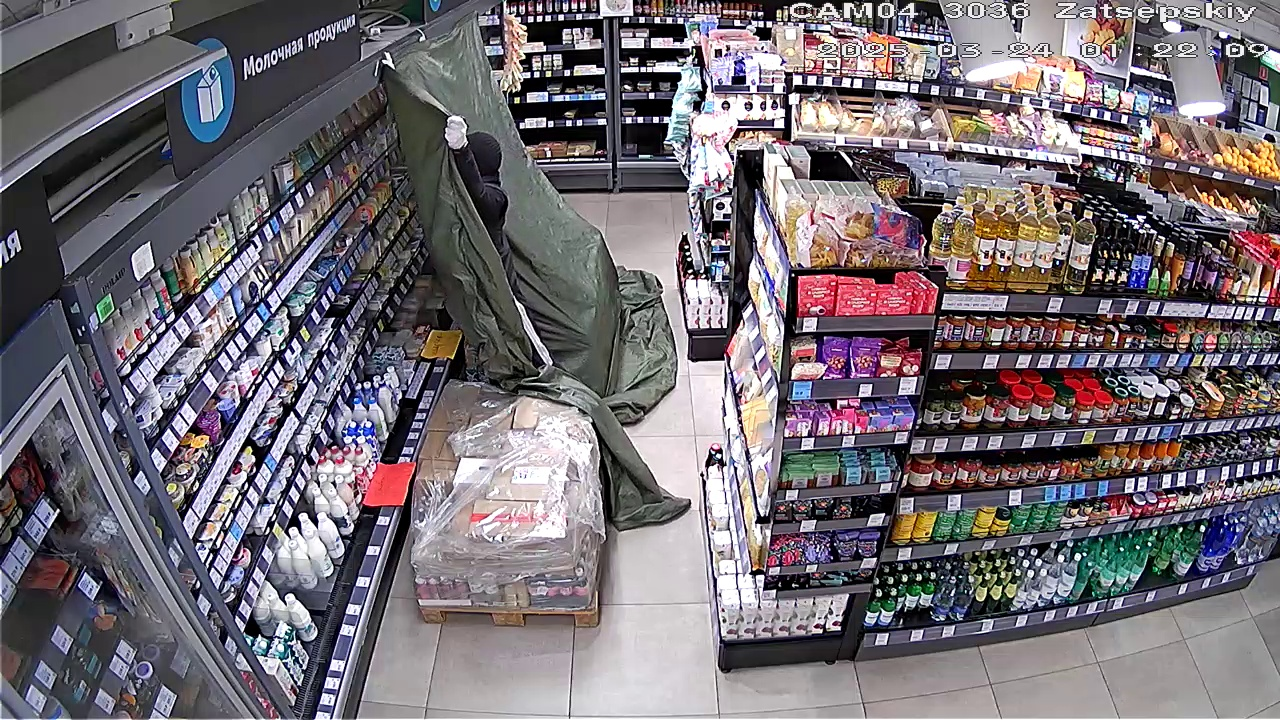Human: (438, 101, 523, 282)
dome: (392, 36, 697, 534)
pallet: (415, 386, 607, 622)
